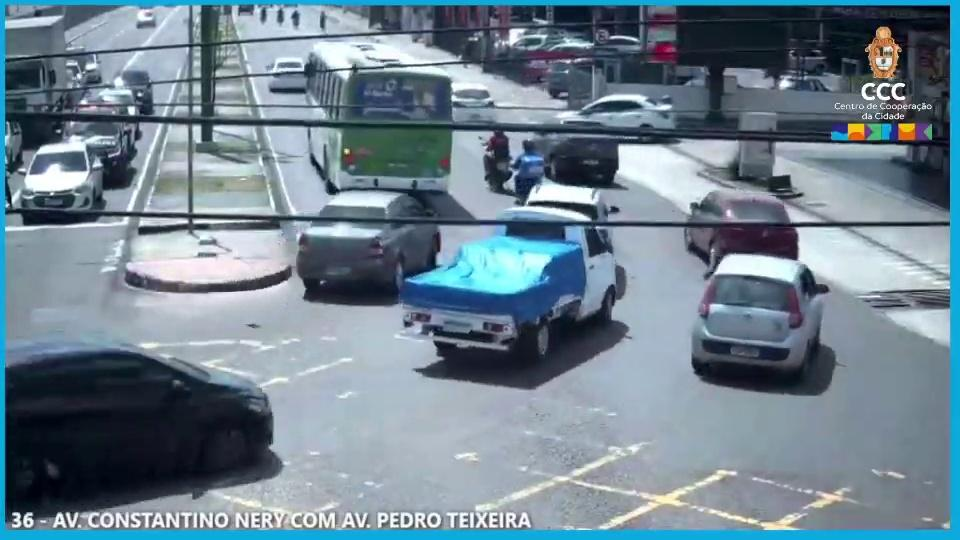car: (5, 327, 281, 497), (680, 254, 830, 376), (292, 190, 439, 298), (680, 181, 800, 268), (18, 135, 107, 227), (524, 111, 622, 186), (553, 91, 680, 146)
truck: (398, 206, 631, 366), (301, 39, 456, 202), (4, 16, 72, 132)
